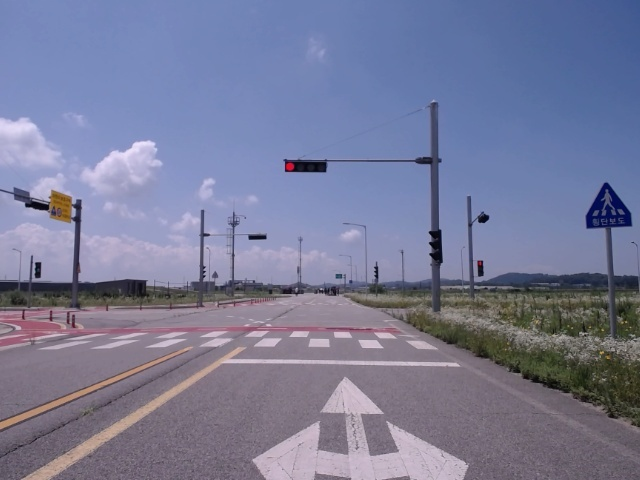red_4: (285, 162, 327, 173)
